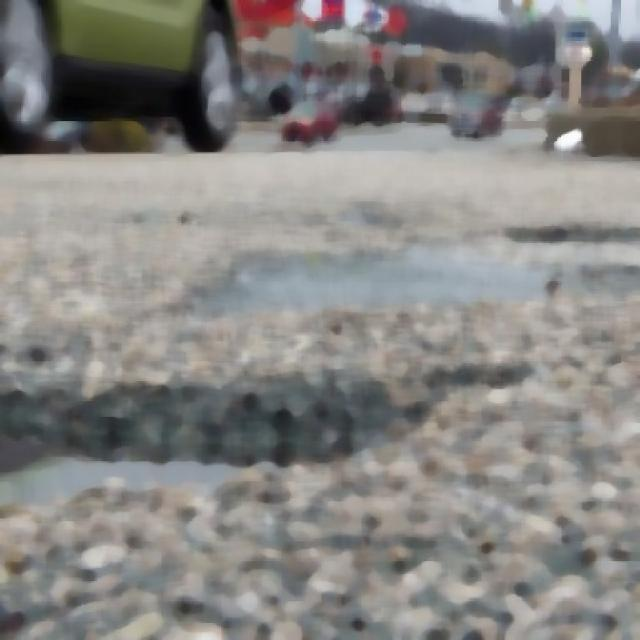Pothole: (0, 351, 329, 500), (234, 258, 640, 308)
